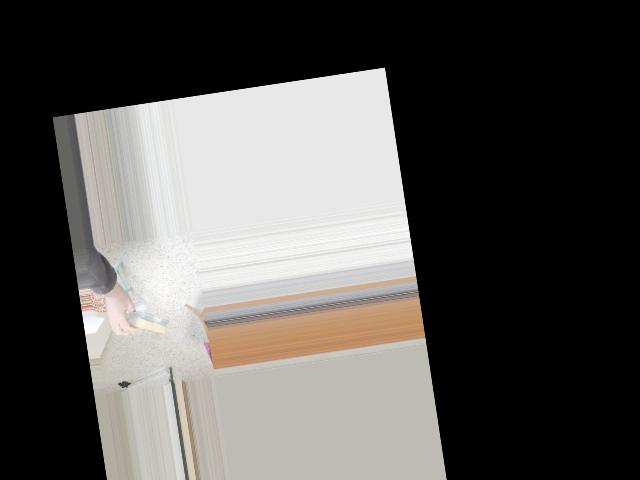cheese: (115, 301, 173, 344)
